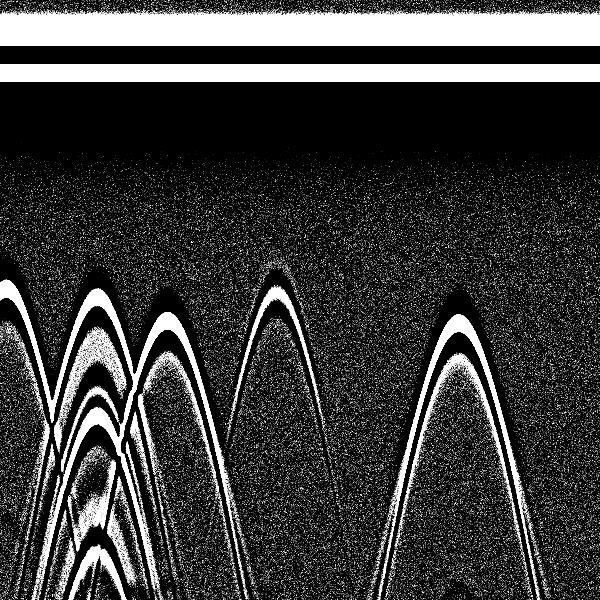pipe: (411, 5, 508, 391), (126, 6, 213, 389), (52, 5, 137, 367), (237, 5, 316, 351), (1, 6, 48, 353)
